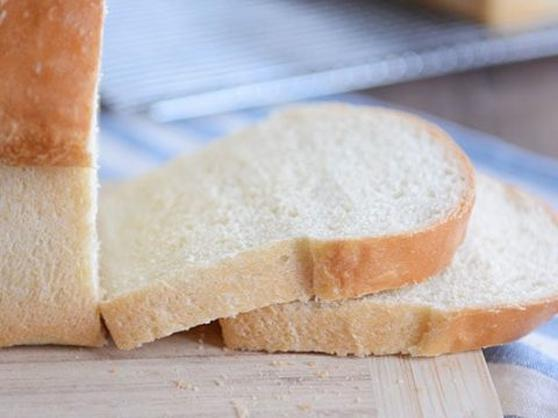white_bread: (1, 1, 162, 350)
